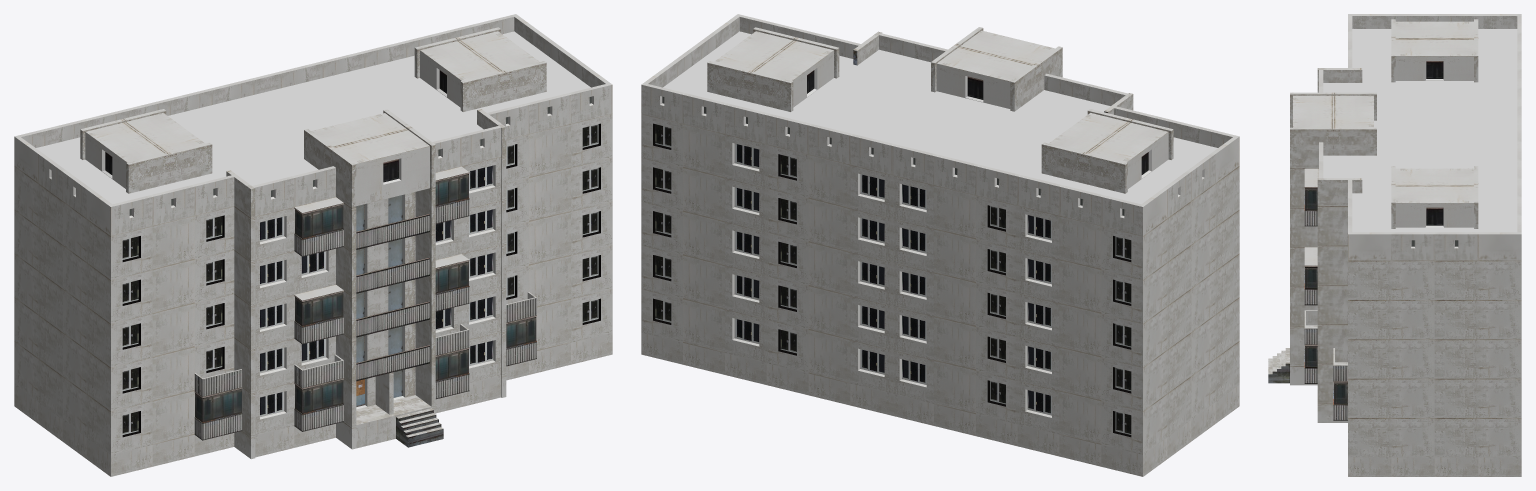
The picture shows the model from 3 angles, left to right: view 1: azimuth 30°, elevation 25°; view 2: azimuth 150°, elevation 25°; view 3: azimuth 270°, elevation 25°; orthographic projection. The views are drawn at different scales.
Visible parts, largest first — view 1: Plane.001, Main Roof.008, Main Roof.007, Main Roof.005, Main Windows.007, Balcony Full.001, Balcony Full.003, Main Windows.005, Main Entrance.002, Main Windows.008, Main Windows.006, Wall.017 (+62 smaller); view 2: Plane.001, Main Roof.008, Main Roof.007, Main Roof.006, Window.034, Wall.022, Window.035, Wall.021, Wall.023, Wall.024, Wall.026, Wall.027 (+55 smaller); view 3: Plane.001, Main Roof.007, Main Roof.008, Wall Wide.016, Wall Wide.012, Wall Wide.014, Wall Wide.018, Wall Wide.020, Wall Wide.011, Wall Wide.013, Wall Wide.015, Wall Wide.017 (+30 smaller).
Boxes of the visible parts, box(x1,y1,x2,y2) form: Plane.001: box(36, 31, 590, 204); Main Roof.008: box(122, 37, 504, 183); Main Roof.007: box(80, 27, 546, 193); Main Roof.005: box(328, 127, 435, 208); Main Windows.007: box(336, 232, 435, 296); Balcony Full.001: box(294, 254, 469, 344); Balcony Full.003: box(294, 166, 469, 256); Main Windows.005: box(336, 319, 435, 383); Main Entrance.002: box(343, 363, 435, 427); Main Windows.008: box(343, 188, 435, 252); Main Windows.006: box(343, 276, 435, 339); Wall.017: box(152, 211, 570, 357); Plane.001: box(663, 31, 1217, 204); Main Roof.008: box(749, 37, 1131, 183); Main Roof.007: box(707, 27, 1173, 193); Main Roof.006: box(931, 44, 1038, 111); Window.034: box(766, 144, 1017, 249); Wall.022: box(683, 211, 1101, 357); Window.035: box(766, 319, 1017, 424); Wall.021: box(683, 255, 1101, 400); Wall.023: box(683, 168, 1101, 313); Wall.024: box(683, 124, 1101, 269); Wall.026: box(808, 286, 975, 370); Wall.027: box(808, 242, 975, 326); Plane.001: box(1323, 29, 1517, 232); Main Roof.007: box(1391, 19, 1478, 228); Main Roof.008: box(1391, 37, 1478, 185); Wall Wide.016: box(1434, 339, 1521, 378); Wall Wide.012: box(1434, 418, 1521, 457); Wall Wide.014: box(1434, 378, 1521, 417); Wall Wide.018: box(1434, 300, 1521, 339); Wall Wide.020: box(1434, 260, 1521, 299); Wall Wide.011: box(1348, 418, 1434, 457); Wall Wide.013: box(1348, 378, 1434, 417); Wall Wide.015: box(1348, 339, 1434, 378); Wall Wide.017: box(1348, 300, 1434, 339).
Bounding box in the file's own units: 3600 × 1950 × 1750.
